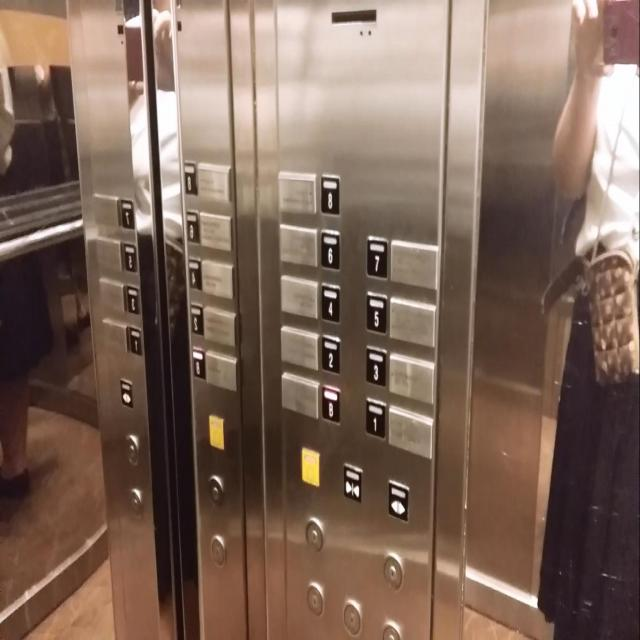1: (365, 396, 386, 440)
2: (322, 333, 341, 376)
3: (366, 344, 386, 388)
4: (320, 282, 340, 324)
5: (365, 290, 387, 336)
6: (320, 228, 341, 271)
7: (364, 233, 388, 281)
8: (320, 173, 340, 216), (182, 159, 198, 195)
B: (322, 383, 341, 426)
alarm: (301, 446, 320, 486), (208, 414, 224, 449)
close: (342, 462, 362, 503)
keyhole: (342, 598, 363, 638), (382, 551, 404, 589), (304, 516, 325, 552), (306, 581, 324, 617), (210, 534, 226, 567), (208, 473, 224, 505), (125, 433, 140, 466), (128, 487, 143, 518)
open: (387, 478, 409, 524), (120, 378, 133, 407)
unknown: (122, 240, 138, 272), (186, 208, 200, 244), (120, 196, 134, 229), (128, 323, 142, 356), (188, 255, 201, 290), (190, 302, 203, 336), (125, 284, 139, 314), (192, 346, 205, 378)
